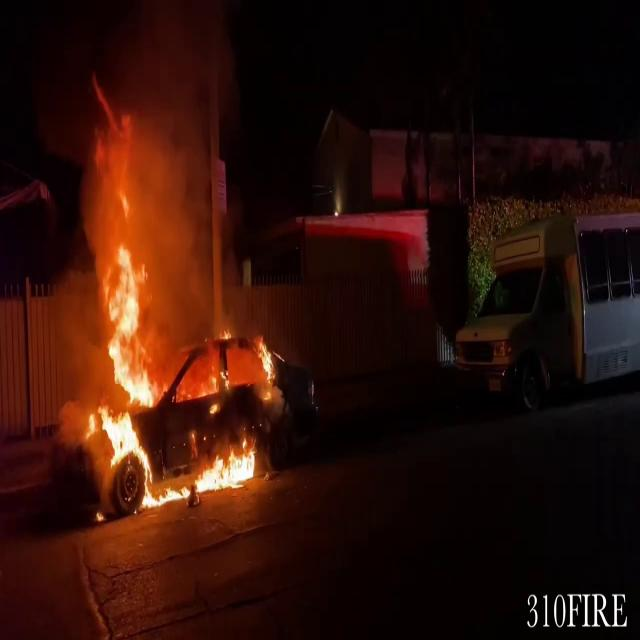Fire: (78, 207, 271, 510)
Smoke: (69, 0, 256, 297)
